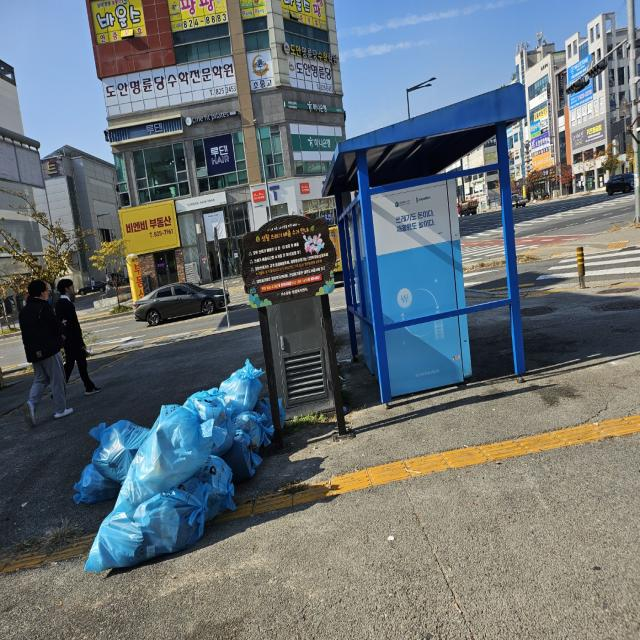General Waste: (75, 370, 276, 562), (89, 490, 210, 570), (121, 405, 212, 492), (87, 414, 153, 479), (185, 381, 240, 451), (174, 455, 235, 518), (69, 461, 120, 504), (226, 410, 274, 454), (216, 373, 258, 423)
